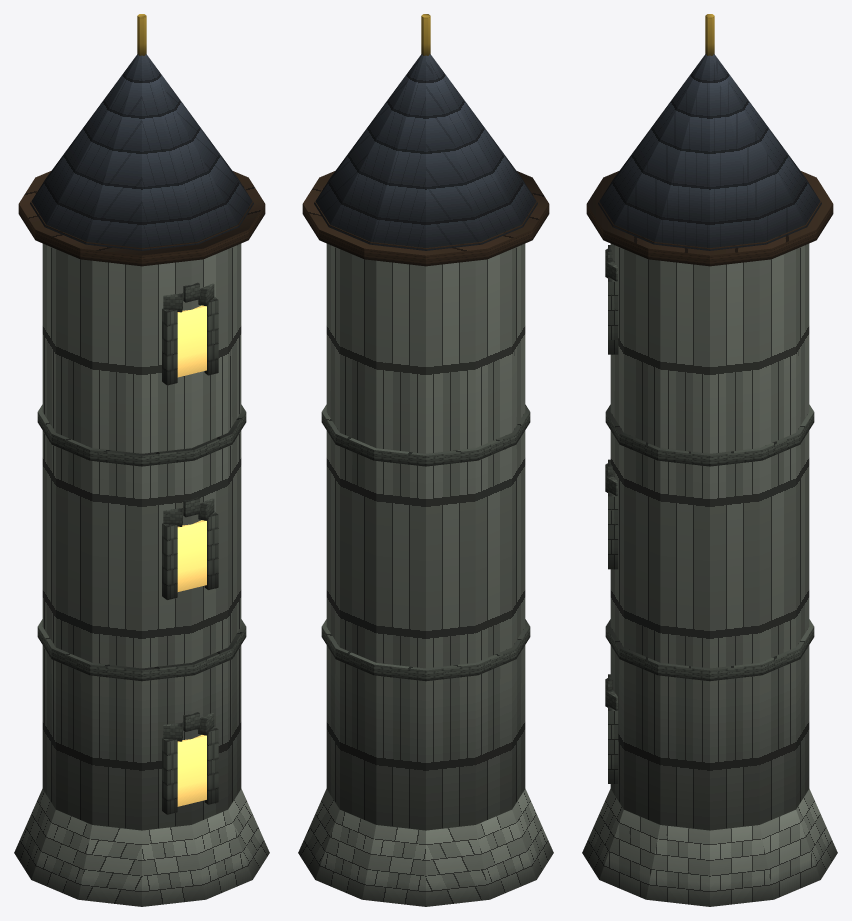
File: tower_spire_tall.gltf
3 renders of one model, left to right at view 1: azimuth 30°, elevation 25°; view 2: azimuth 150°, elevation 25°; view 3: azimuth 270°, elevation 25°, orthographic.
Parts seen in each view (by area): view 1: tower_spire_tall; view 2: tower_spire_tall; view 3: tower_spire_tall.
Boxes of the visible parts, bbox=[...] form: tower_spire_tall: bbox=[14, 14, 269, 906]; tower_spire_tall: bbox=[298, 14, 553, 906]; tower_spire_tall: bbox=[582, 14, 837, 906].
Bounding box in the file's own units: 1.08 × 3.9 × 1.08.
1 material, 1 textured.
